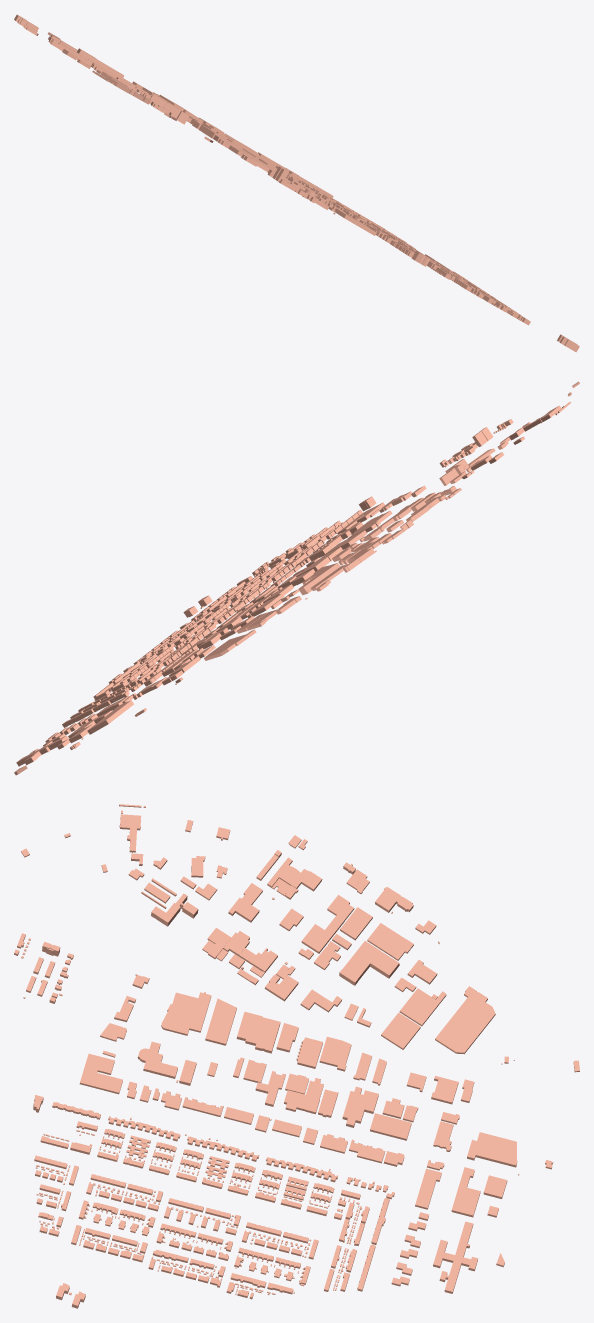
3 views of the same model, one above another, from view 1: azimuth 30°, elevation 25°; view 2: azimuth 150°, elevation 25°; view 3: azimuth 270°, elevation 25° (orthographic). The views are drawn at different scales.
Size of the model in its own units: 965 by 745 by 1210.
